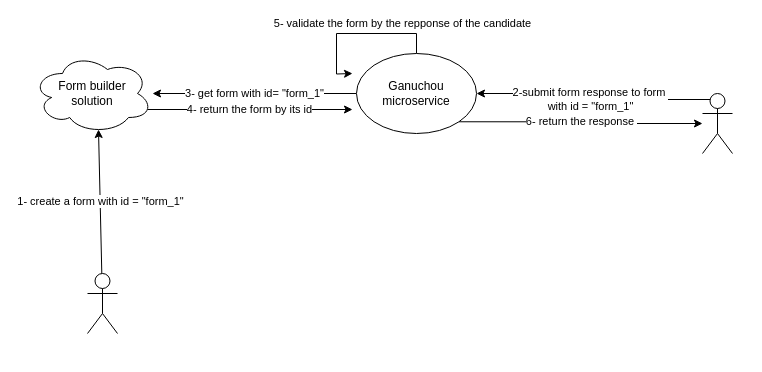
Some shapes in this 762 by 372 pixel diagram are drawn without their labels. The shapes that lost their labels are listed below. From the top down, each one's box as (x1, y1, x2, y2) in pixels, then its label:
(702, 92, 732, 154): Candidate
(86, 272, 118, 334): HR departement member
